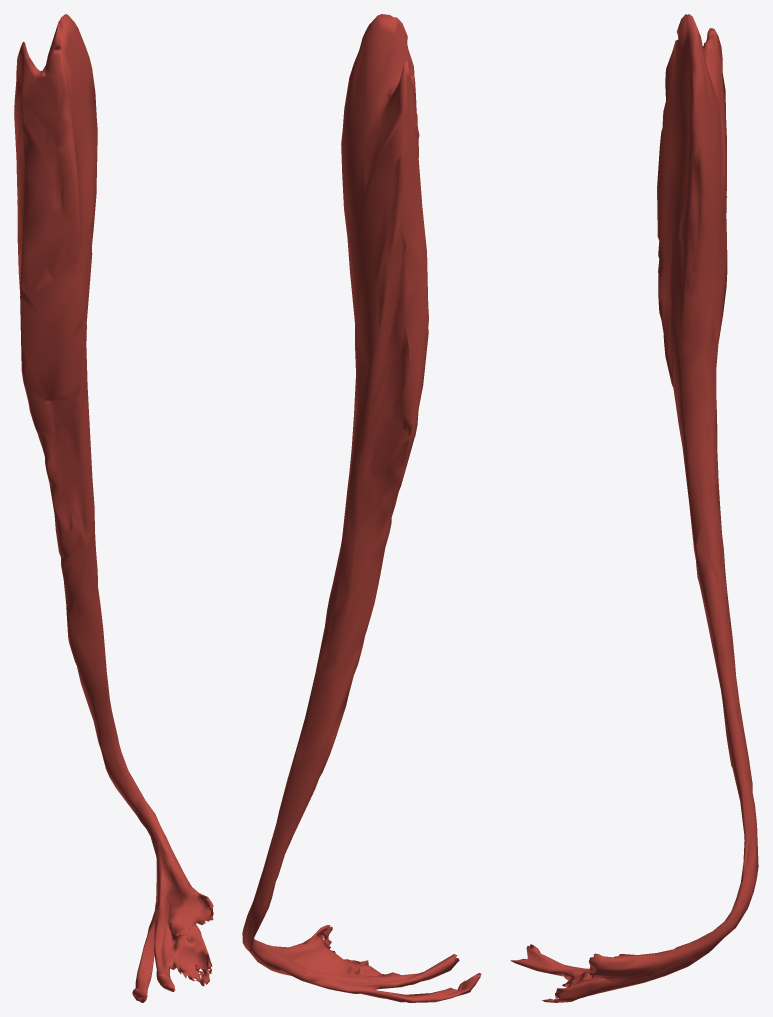
Rendered from musculos-tibialis-posterior-muscle-r.glb.
3 views of the same model, side by side, from view 1: azimuth 30°, elevation 25°; view 2: azimuth 150°, elevation 25°; view 3: azimuth 270°, elevation 25° (orthographic). The views are drawn at different scales.
Visible parts, largest first — view 1: Tibialis posterior muscle.r; view 2: Tibialis posterior muscle.r; view 3: Tibialis posterior muscle.r.
Boxes of the visible parts, <box> form: Tibialis posterior muscle.r: <box>14,14,213,1002</box>; Tibialis posterior muscle.r: <box>242,14,481,1002</box>; Tibialis posterior muscle.r: <box>510,14,758,1002</box>.
Bounding box in the file's own units: 0.0589 × 0.3438 × 0.0812.
